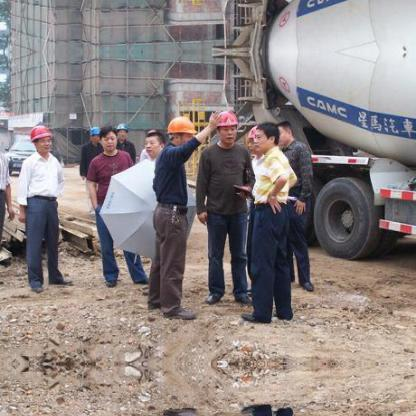Helmet: (212, 107, 242, 144), (161, 115, 193, 143), (28, 122, 54, 154), (114, 118, 128, 144), (85, 124, 99, 146)
No Helmet: (249, 118, 276, 154), (140, 126, 164, 154), (96, 123, 115, 151), (276, 118, 294, 146)
